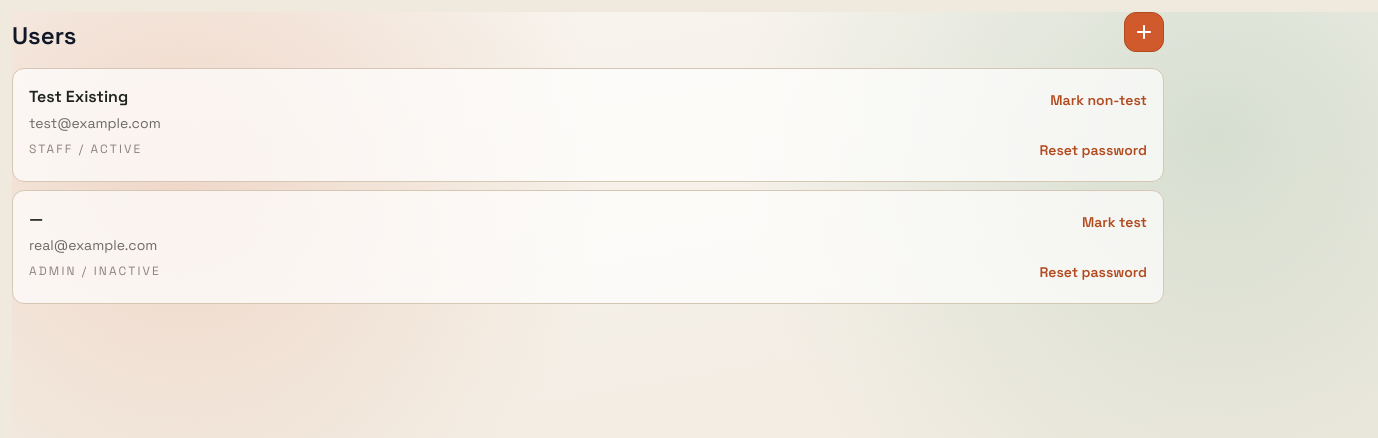
Test: UserRegistrationClient › changes a user's test marker and updates the displayed list
Step 1. Click the button "Mark non-test" → {"x": 1099, "y": 100}, box [1050,85,1147,116]
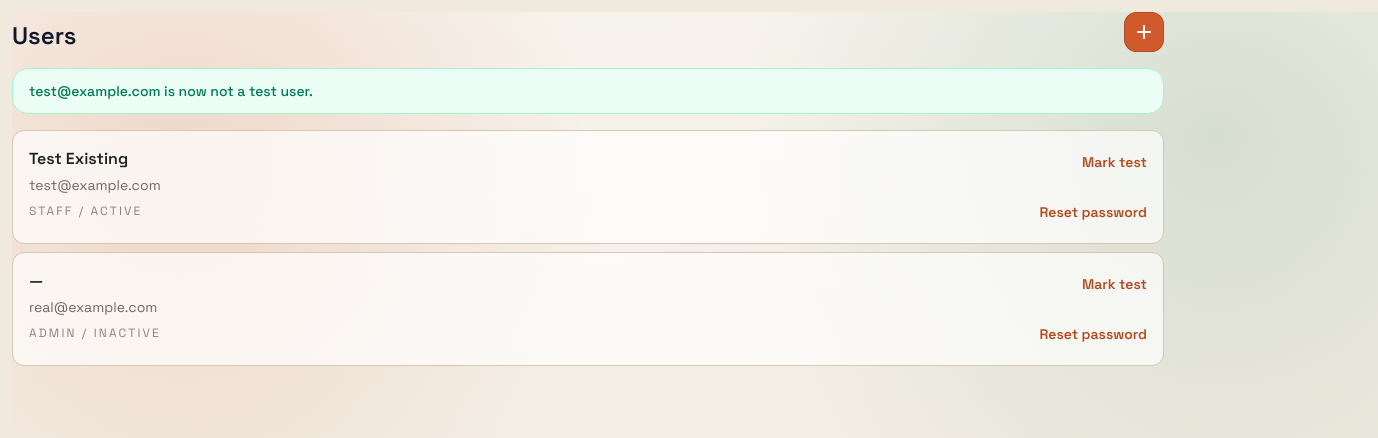
Expected: the number of buttons "Mark test" is 2, [1082,147,1147,178]; [1082,269,1147,300]
Result: the text "test@example.com is now not a test user." is shown at [29,82,313,100]
